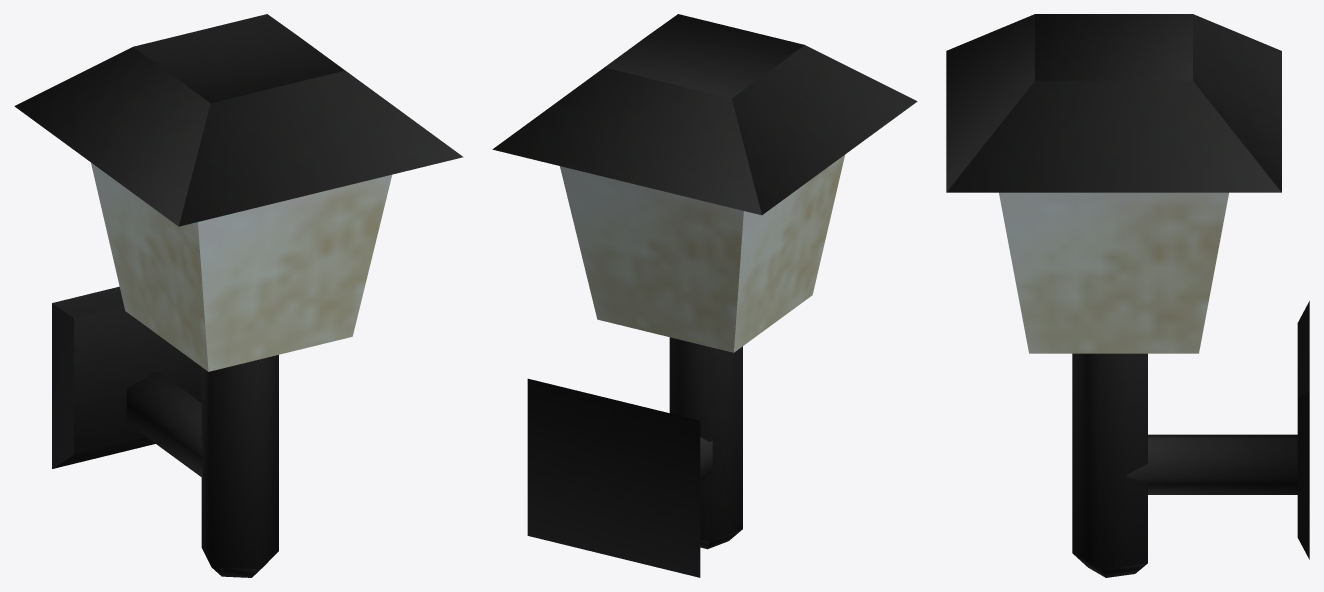
The model's file is PorchLight.fbx.
3 renders of one model, left to right at view 1: azimuth 30°, elevation 25°; view 2: azimuth 150°, elevation 25°; view 3: azimuth 270°, elevation 25°, orthographic. The views are drawn at different scales.
Parts seen in each view (by area): view 1: Maya_File_Assets:TexturedAssetsCurrent:QuentonAssets02:Outdo; view 2: Maya_File_Assets:TexturedAssetsCurrent:QuentonAssets02:Outdo; view 3: Maya_File_Assets:TexturedAssetsCurrent:QuentonAssets02:Outdo.
Part boxes in pixels (x1,y1,x2,y2): Maya_File_Assets:TexturedAssetsCurrent:QuentonAssets02:Outdo: (14, 14, 463, 577); Maya_File_Assets:TexturedAssetsCurrent:QuentonAssets02:Outdo: (492, 14, 917, 577); Maya_File_Assets:TexturedAssetsCurrent:QuentonAssets02:Outdo: (946, 14, 1309, 577).
Size of the model in its own units: 0.2333 by 0.3989 by 0.2527.
